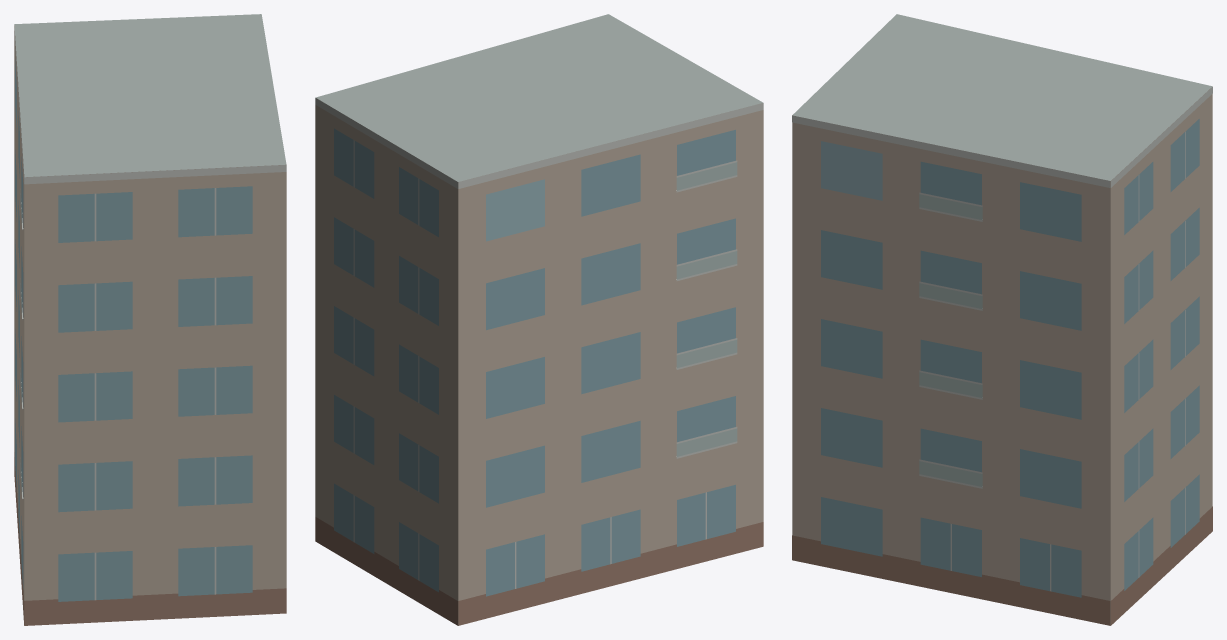
Rendered from residential-12ea52e6-3356-4d47-82c5-91a14ca5b32f.glb.
The picture shows the model from 3 angles, left to right: view 1: azimuth 30°, elevation 25°; view 2: azimuth 150°, elevation 25°; view 3: azimuth 270°, elevation 25°; orthographic projection.
Parts seen in each view (by area): view 1: residential-12ea52e6-3356-4d47-82c5-91a14ca5b32f.tmp; view 2: residential-12ea52e6-3356-4d47-82c5-91a14ca5b32f.tmp; view 3: residential-12ea52e6-3356-4d47-82c5-91a14ca5b32f.tmp.
Boxes of the visible parts, box(x1,y1,x2,y2) form: residential-12ea52e6-3356-4d47-82c5-91a14ca5b32f.tmp: box(14, 14, 286, 625); residential-12ea52e6-3356-4d47-82c5-91a14ca5b32f.tmp: box(315, 14, 763, 625); residential-12ea52e6-3356-4d47-82c5-91a14ca5b32f.tmp: box(792, 14, 1212, 625).
Size of the model in its own units: 12.29 by 15.25 by 13.08.
